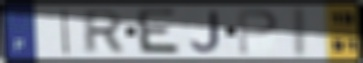E: (136, 7, 183, 56)
I: (291, 5, 309, 59), (60, 7, 72, 57)
J: (188, 10, 223, 55)
P: (236, 8, 280, 56)
R: (82, 9, 127, 55)
